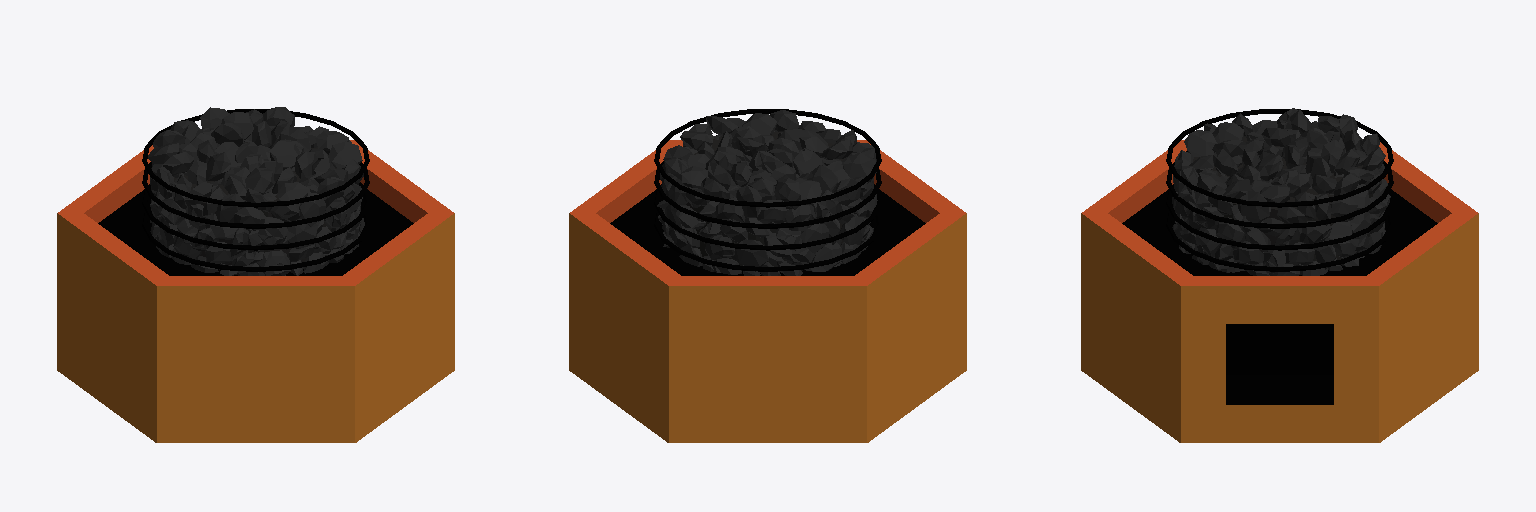
Rendered from stove.obj.
The picture shows the model from 3 angles: view 1: azimuth 30°, elevation 25°; view 2: azimuth 150°, elevation 25°; view 3: azimuth 270°, elevation 25°; orthographic projection.
Visible parts, largest first — view 1: Torus; view 2: Torus; view 3: Torus.
Part boxes in pixels (bbox=[...]): Torus: bbox=[57, 107, 454, 442]; Torus: bbox=[569, 109, 966, 442]; Torus: bbox=[1081, 108, 1478, 442].
Bounding box in the file's own units: 1.39 × 1.02 × 1.6.